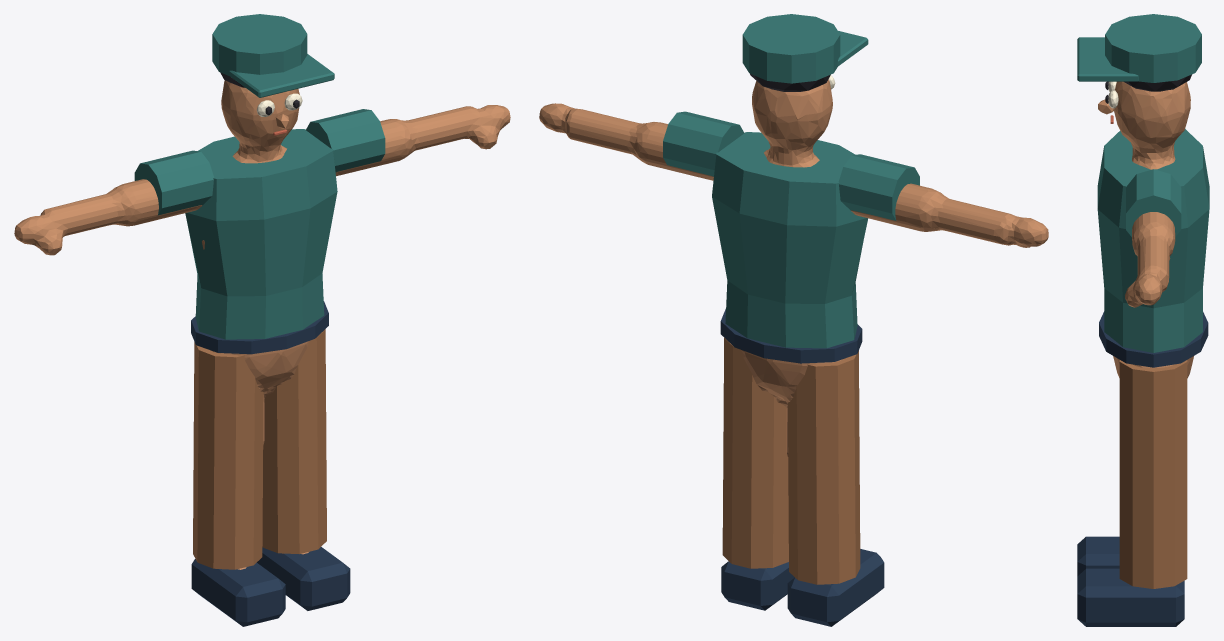
The model's file is Civilian_02.fbx.
The picture shows the model from 3 angles, left to right: view 1: azimuth 30°, elevation 25°; view 2: azimuth 150°, elevation 25°; view 3: azimuth 270°, elevation 25°; orthographic projection. The views are drawn at different scales.
Parts seen in each view (by area): view 1: Shirt.001, Civilian_02_Base_BaseMale_TPose_Body, PantsLeg.002, PantsLeg.003, CapCrown, Shoe.002, Shoe.003, Sleeve.002, Sleeve.003, Belt.001, CapVisor; view 2: Shirt.001, Civilian_02_Base_BaseMale_TPose_Body, PantsLeg.002, PantsLeg.003, CapCrown, Shoe.002, Sleeve.002, Sleeve.003, Shoe.003, Belt.001; view 3: PantsLeg.003, Shirt.001, Civilian_02_Base_BaseMale_TPose_Body, CapCrown, Shoe.003, Sleeve.003, Belt.001, CapVisor, Shoe.002, HairCap.001.
Part boxes in pixels (x1=…): Shirt.001: x1=185, y1=129, x2=337, y2=339; Civilian_02_Base_BaseMale_TPose_Body: x1=14, y1=80, x2=510, y2=569; PantsLeg.002: x1=193, y1=342, x2=263, y2=569; PantsLeg.003: x1=262, y1=329, x2=326, y2=554; CapCrown: x1=212, y1=14, x2=307, y2=75; Shoe.002: x1=191, y1=559, x2=285, y2=626; Shoe.003: x1=257, y1=547, x2=350, y2=610; Sleeve.002: x1=134, y1=150, x2=213, y2=215; Sleeve.003: x1=306, y1=109, x2=385, y2=172; Belt.001: x1=191, y1=301, x2=328, y2=354; CapVisor: x1=229, y1=54, x2=334, y2=97; Shirt.001: x1=712, y1=132, x2=868, y2=348; Civilian_02_Base_BaseMale_TPose_Body: x1=539, y1=79, x2=1048, y2=456; PantsLeg.002: x1=788, y1=350, x2=860, y2=584; PantsLeg.003: x1=722, y1=337, x2=788, y2=568; CapCrown: x1=742, y1=14, x2=840, y2=83; Shoe.002: x1=787, y1=549, x2=884, y2=626; Sleeve.002: x1=838, y1=154, x2=919, y2=220; Sleeve.003: x1=663, y1=111, x2=744, y2=176; Shoe.003: x1=721, y1=561, x2=794, y2=610; Belt.001: x1=720, y1=309, x2=862, y2=363; PantsLeg.003: x1=1119, y1=360, x2=1187, y2=588; Shirt.001: x1=1097, y1=129, x2=1209, y2=352; Civilian_02_Base_BaseMale_TPose_Body: x1=1113, y1=81, x2=1193, y2=378; CapCrown: x1=1105, y1=14, x2=1201, y2=82; Shoe.003: x1=1077, y1=568, x2=1184, y2=626; Sleeve.003: x1=1126, y1=169, x2=1181, y2=236; Belt.001: x1=1099, y1=311, x2=1208, y2=367; CapVisor: x1=1077, y1=37, x2=1138, y2=81; Shoe.002: x1=1077, y1=536, x2=1119, y2=576; HairCap.001: x1=1124, y1=74, x2=1191, y2=91.
Bounding box in the file's own units: 1.68 × 1.82 × 0.3817.
